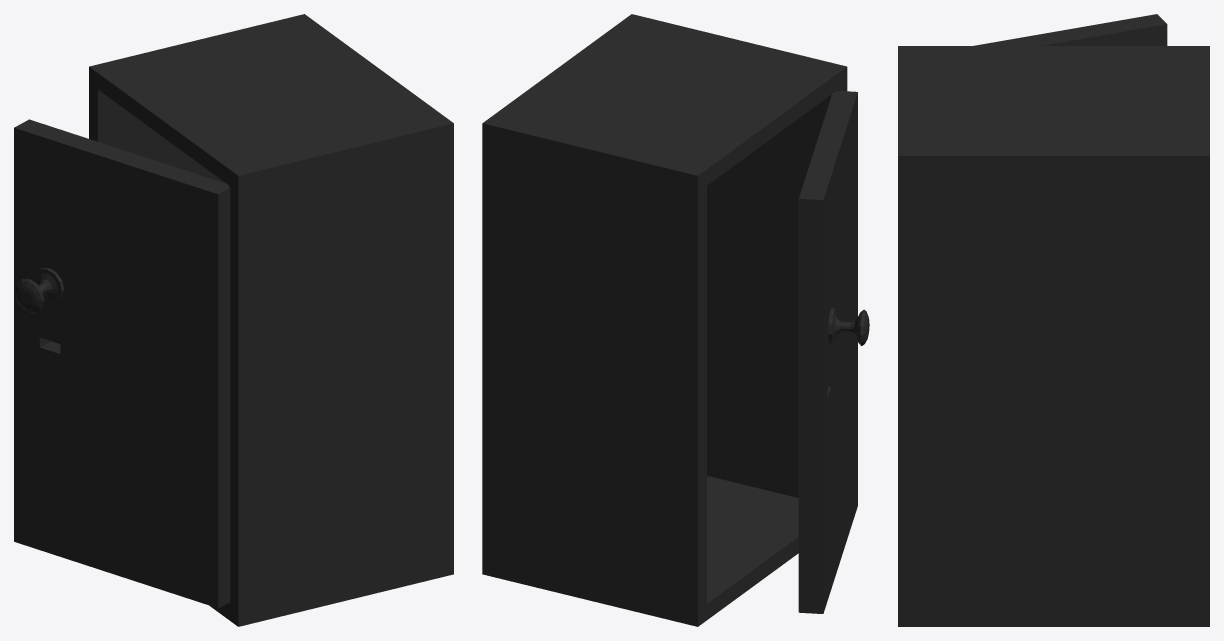
The model's file is safe.fbx.
3 views of the same model, side by side, from view 1: azimuth 30°, elevation 25°; view 2: azimuth 150°, elevation 25°; view 3: azimuth 270°, elevation 25° (orthographic). The views are drawn at different scales.
Parts seen in each view (by area): view 1: safemain, safedoor; view 2: safemain, safedoor; view 3: safemain, safedoor.
Boxes of the visible parts, x1=… form: safemain: x1=89, y1=14, x2=453, y2=626; safedoor: x1=14, y1=119, x2=230, y2=608; safemain: x1=482, y1=14, x2=847, y2=626; safedoor: x1=798, y1=91, x2=869, y2=613; safemain: x1=898, y1=46, x2=1209, y2=626; safedoor: x1=974, y1=14, x2=1167, y2=45.
Size of the model in its own units: 77.82 by 100 by 60.
Materials: 1 (1 with a texture image).
